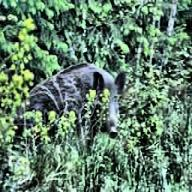boar: (11, 60, 127, 150)
